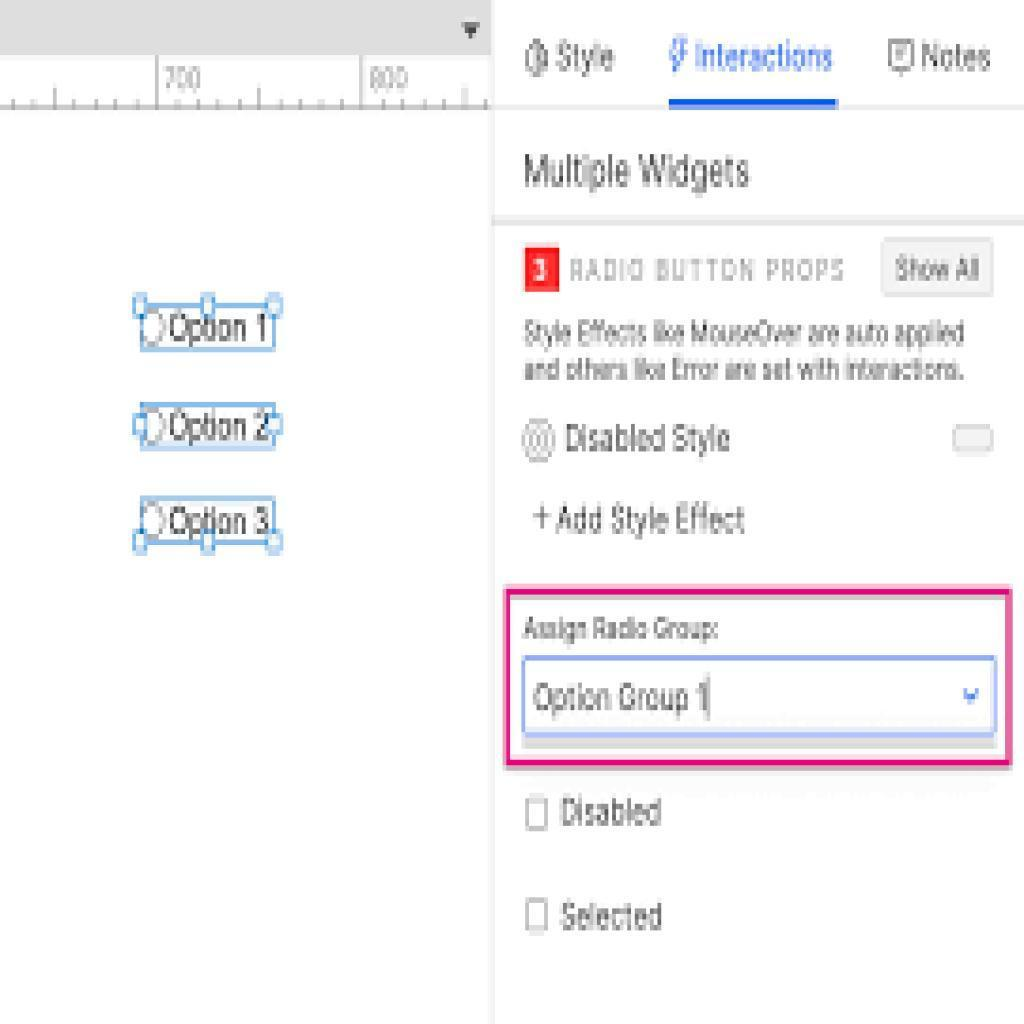button: (880, 237, 996, 299)
checkbox: (525, 794, 552, 834), (525, 896, 551, 933)
dropdown: (522, 657, 998, 736), (1, 1, 493, 57)
icon: (520, 418, 561, 467), (521, 37, 554, 79), (887, 37, 920, 78), (668, 38, 691, 76), (530, 501, 555, 534)
label: (692, 37, 838, 80), (560, 788, 668, 832), (562, 895, 665, 935), (920, 37, 995, 77), (552, 40, 620, 79)
